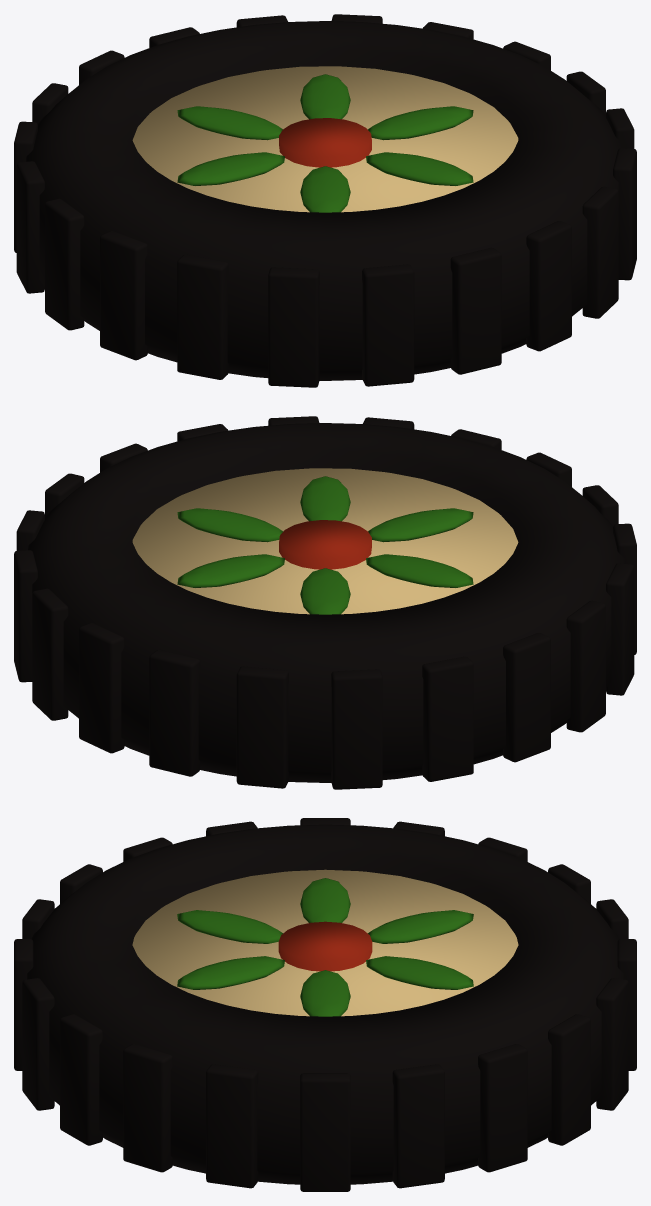
The model's file is wheel.obj.
3 renders of one model, top to bottom at view 1: azimuth 30°, elevation 25°; view 2: azimuth 150°, elevation 25°; view 3: azimuth 270°, elevation 25°, orthographic.
Visible parts, largest first — view 1: wheel; view 2: wheel; view 3: wheel.
Boxes of the visible parts, <box> form: wheel: <box>14,14,636,387</box>; wheel: <box>14,416,636,789</box>; wheel: <box>14,818,636,1191</box>.
Bounding box in the file's own units: 0.16 × 0.04 × 0.16.
